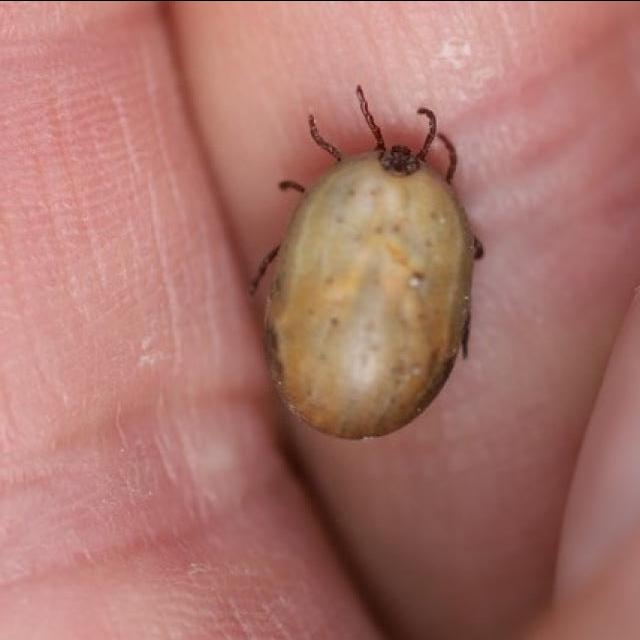Dermacentor Reticulatus-F-Fed: (253, 87, 483, 441)
